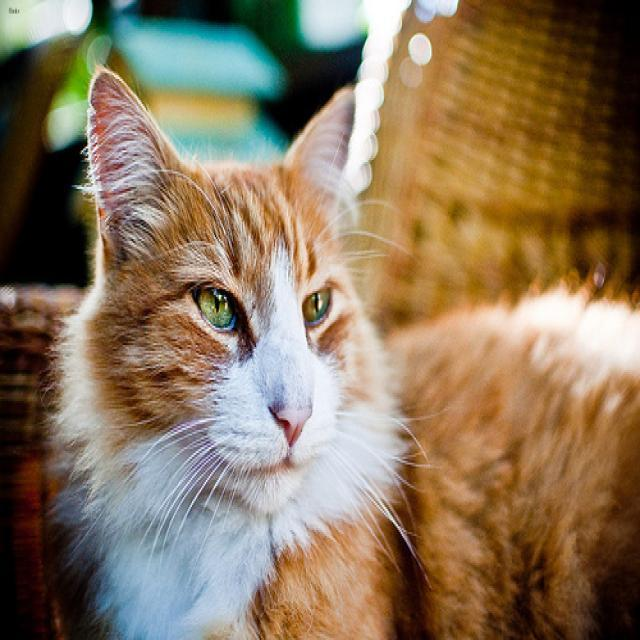Maine_Coon: (86, 64, 352, 511)
